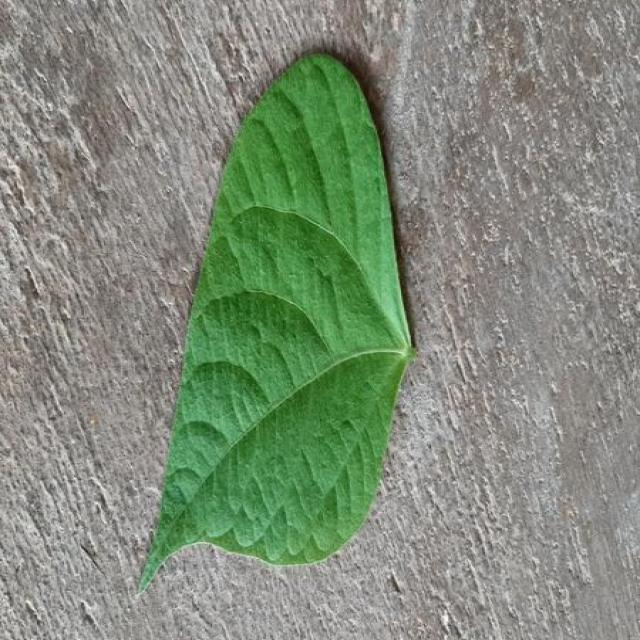beans: (140, 55, 412, 587)
